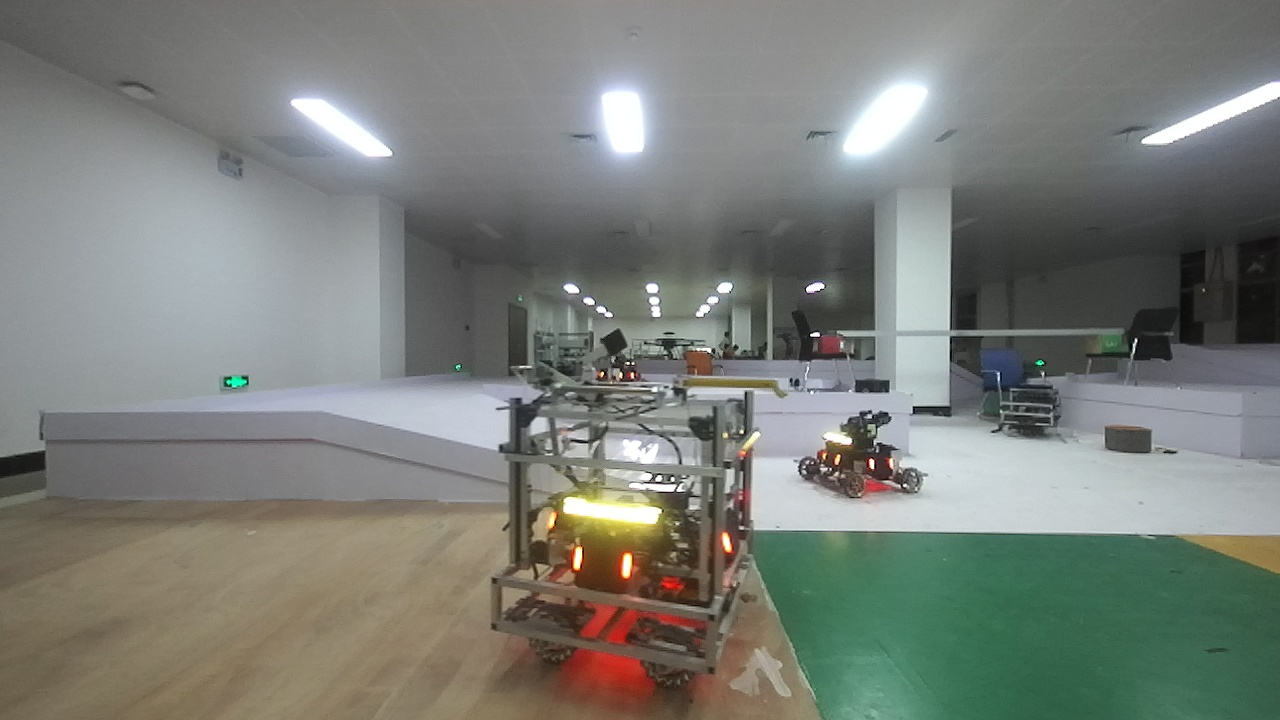car: (492, 392, 744, 705), (805, 413, 928, 509), (588, 354, 643, 390)
